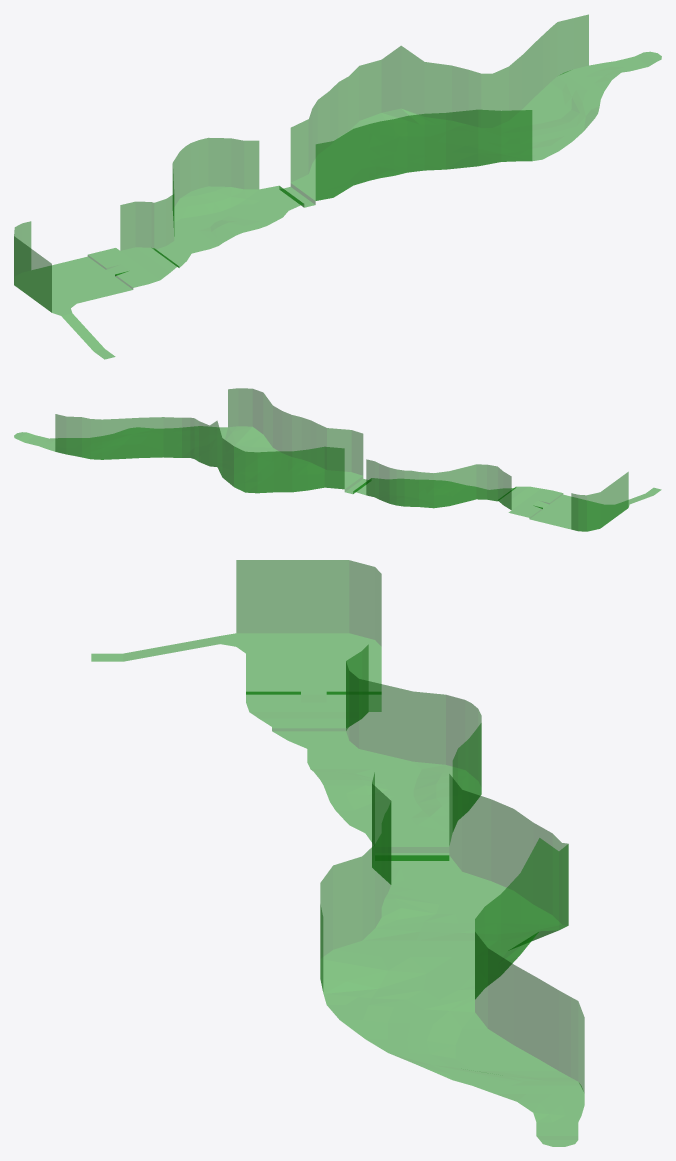
Rendered from camera_hit.obj.
3 views of the same model, one above another, from view 1: azimuth 30°, elevation 25°; view 2: azimuth 150°, elevation 25°; view 3: azimuth 270°, elevation 25° (orthographic). The views are drawn at different scales.
Size of the model in its own units: 381 by 48.01 by 153.
